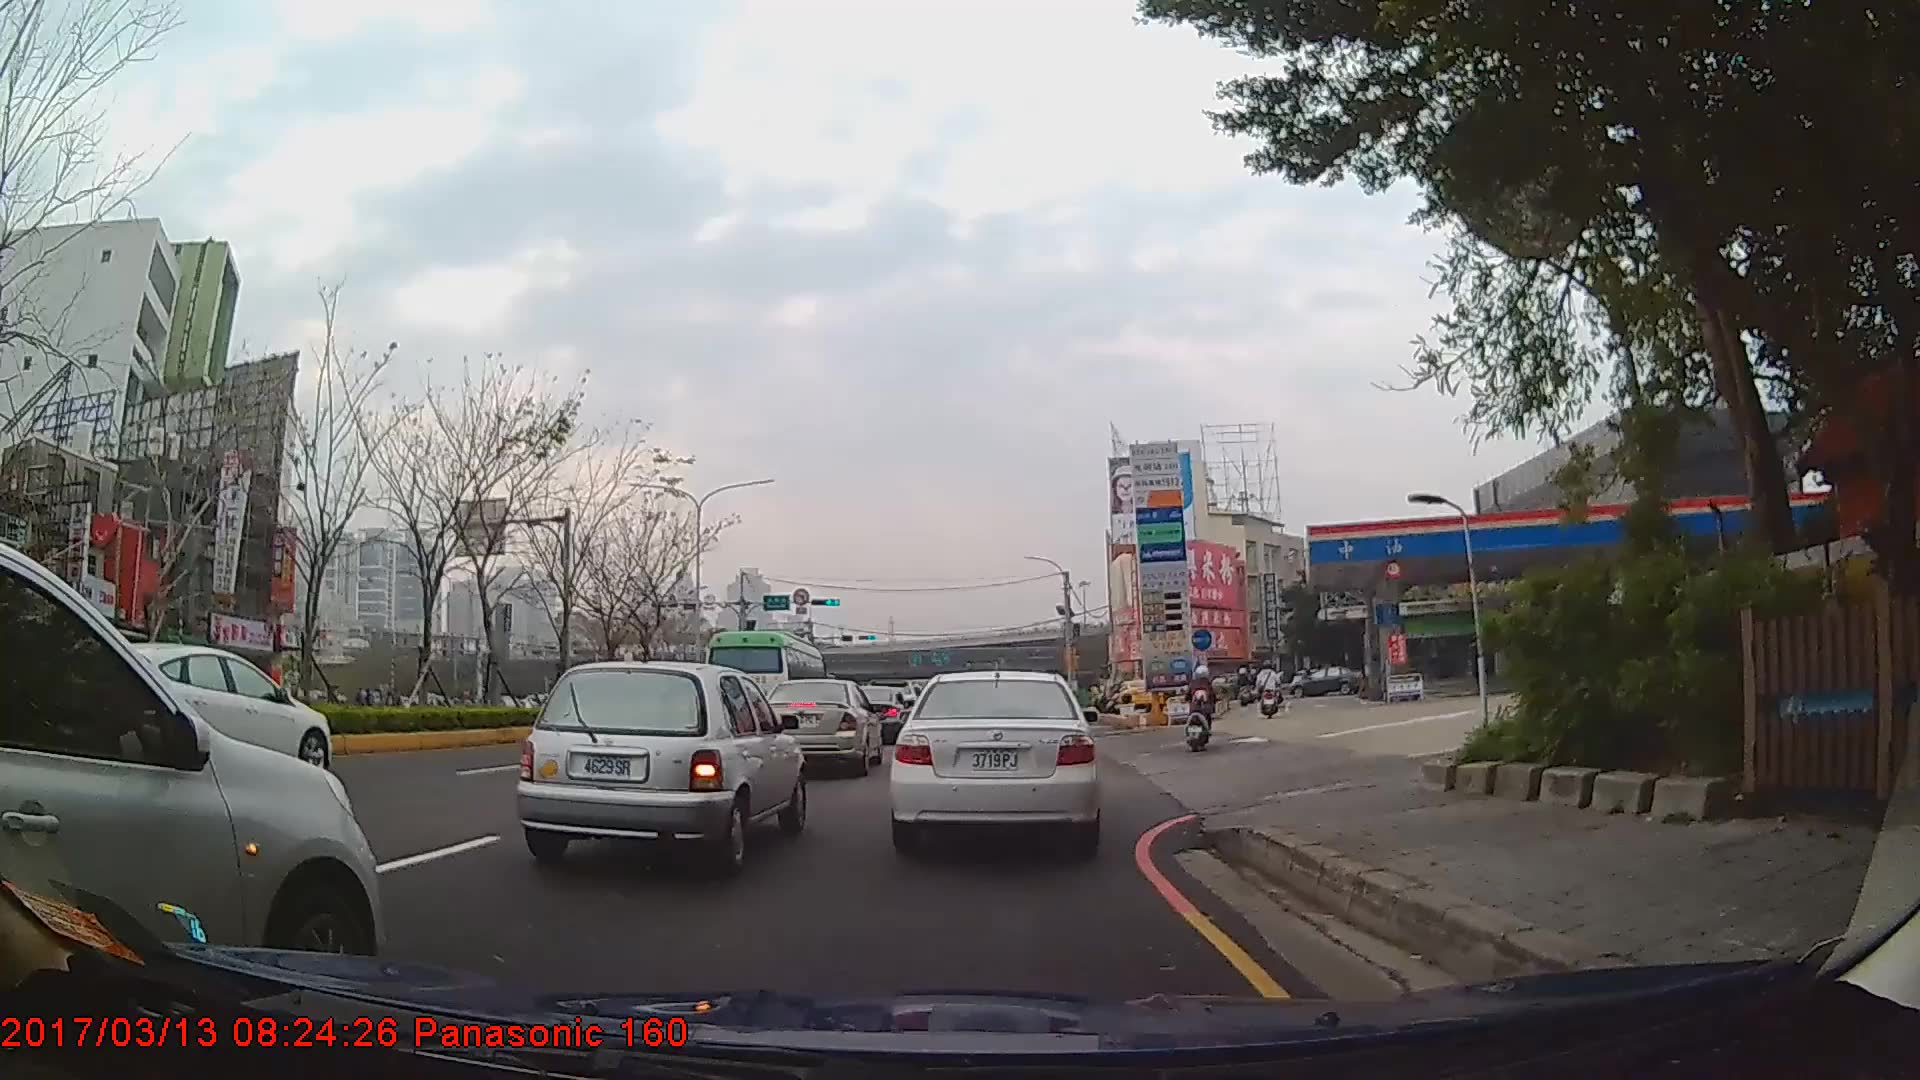rider: (1184, 663, 1218, 753), (1255, 660, 1283, 718)
vehicle: (0, 544, 387, 998), (511, 656, 809, 873), (888, 666, 1099, 853), (90, 639, 330, 771), (703, 629, 827, 731), (754, 678, 882, 774), (1290, 666, 1363, 697), (1116, 678, 1159, 709)
